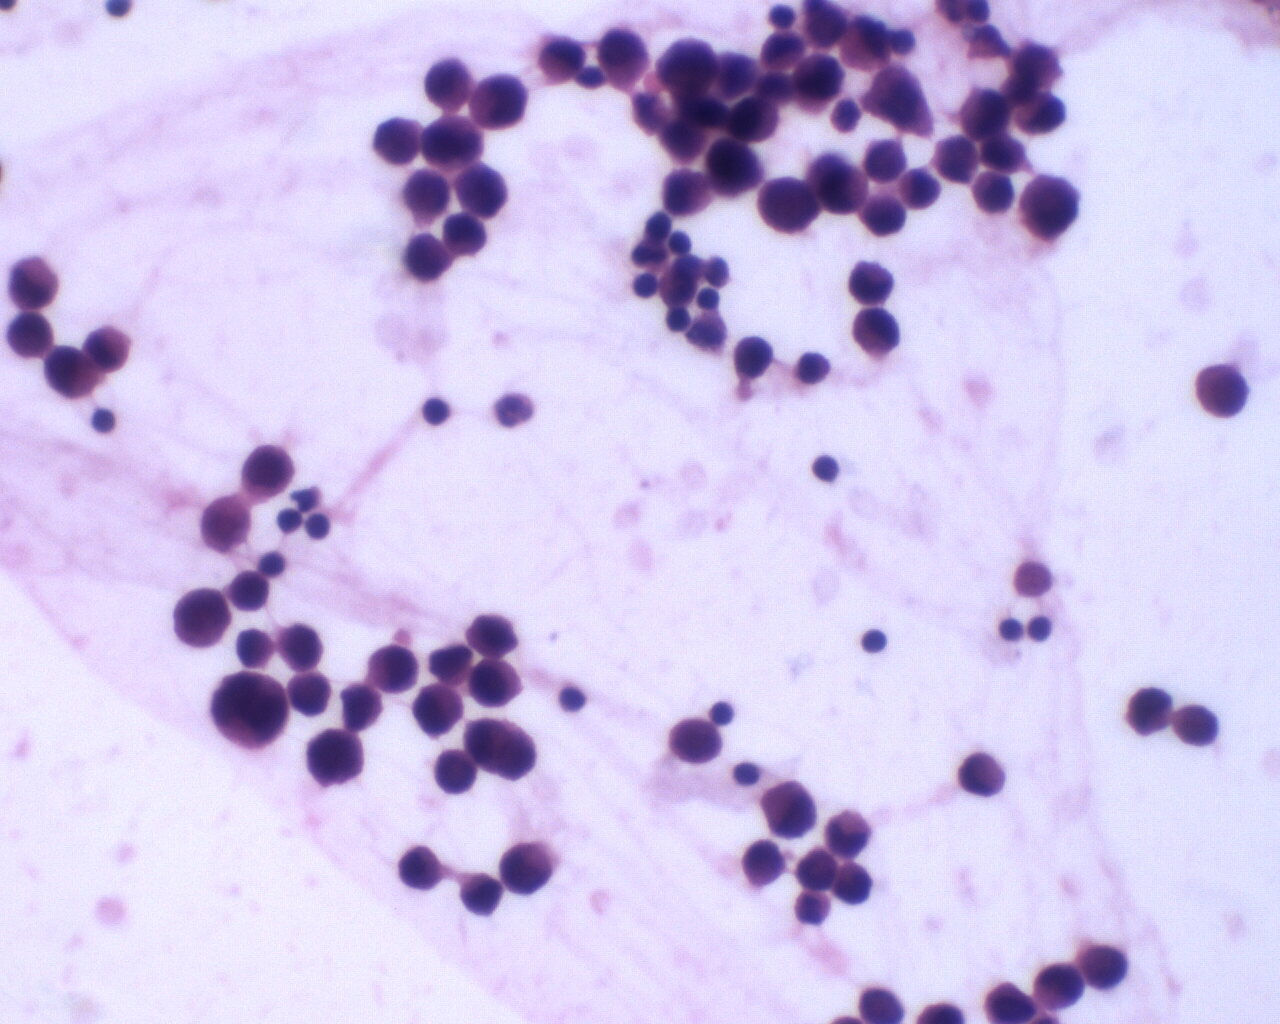ab: (205, 672, 290, 755), (864, 61, 942, 144), (652, 32, 721, 103), (163, 589, 239, 653), (1020, 170, 1080, 245), (808, 150, 872, 219), (305, 725, 369, 793), (757, 171, 822, 235), (700, 137, 765, 200), (423, 114, 488, 174), (791, 51, 848, 119), (469, 71, 531, 132), (418, 55, 478, 116), (238, 442, 298, 502), (453, 159, 510, 222), (44, 342, 102, 400), (1195, 359, 1251, 421), (501, 840, 558, 898), (400, 166, 453, 227), (954, 88, 1011, 142), (669, 715, 726, 768), (371, 111, 423, 169), (467, 657, 527, 708), (368, 642, 422, 696), (275, 619, 330, 672), (402, 228, 453, 285), (850, 308, 904, 362), (1032, 958, 1085, 1013), (1015, 90, 1070, 140), (741, 835, 789, 892), (857, 189, 909, 241), (931, 132, 978, 186), (846, 258, 895, 307), (6, 310, 55, 358), (1171, 703, 1221, 750), (458, 871, 507, 918), (443, 210, 489, 260), (897, 164, 942, 213), (972, 168, 1015, 220), (433, 749, 478, 798), (731, 333, 776, 380)
lymph: (729, 752, 766, 793), (991, 613, 1028, 648), (419, 395, 456, 428), (811, 452, 846, 486), (555, 682, 590, 714), (859, 627, 892, 654), (1027, 614, 1057, 642)
